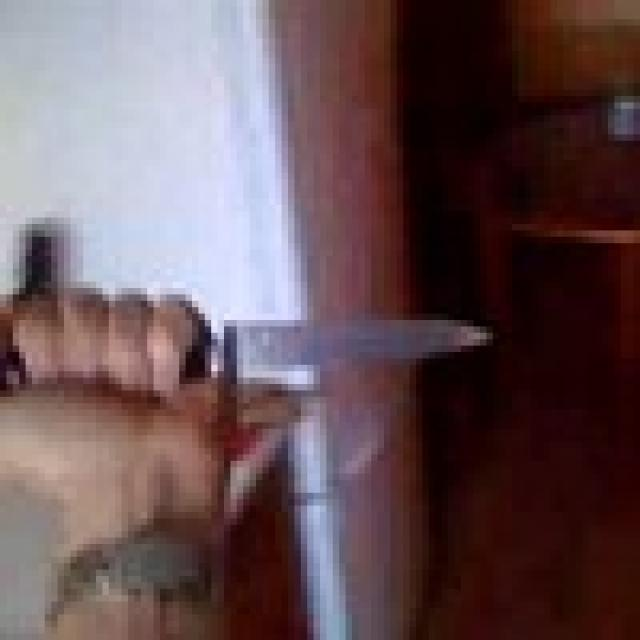Knife: (25, 288, 492, 384)
